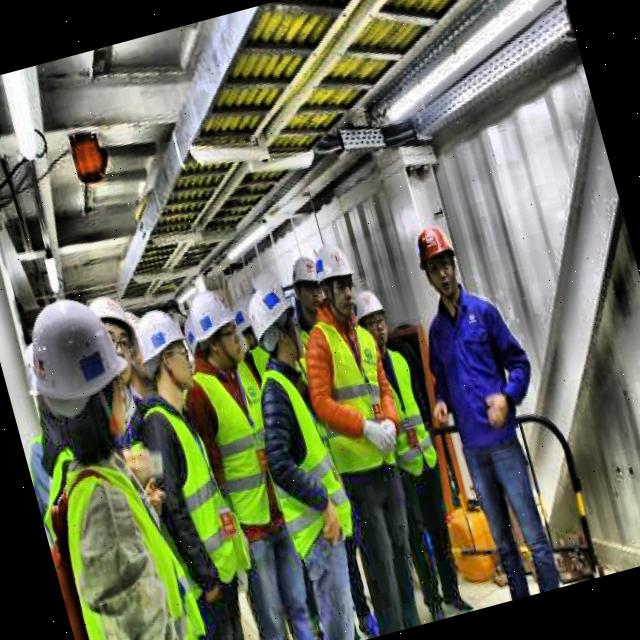helmet: (19, 288, 140, 457), (129, 302, 202, 408), (178, 284, 252, 384), (244, 272, 308, 374), (406, 210, 467, 306), (88, 286, 146, 377), (308, 240, 361, 318), (346, 282, 396, 352), (286, 253, 330, 318)
